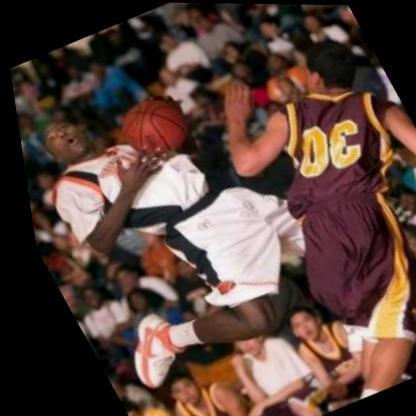basketball: (98, 84, 205, 174)
